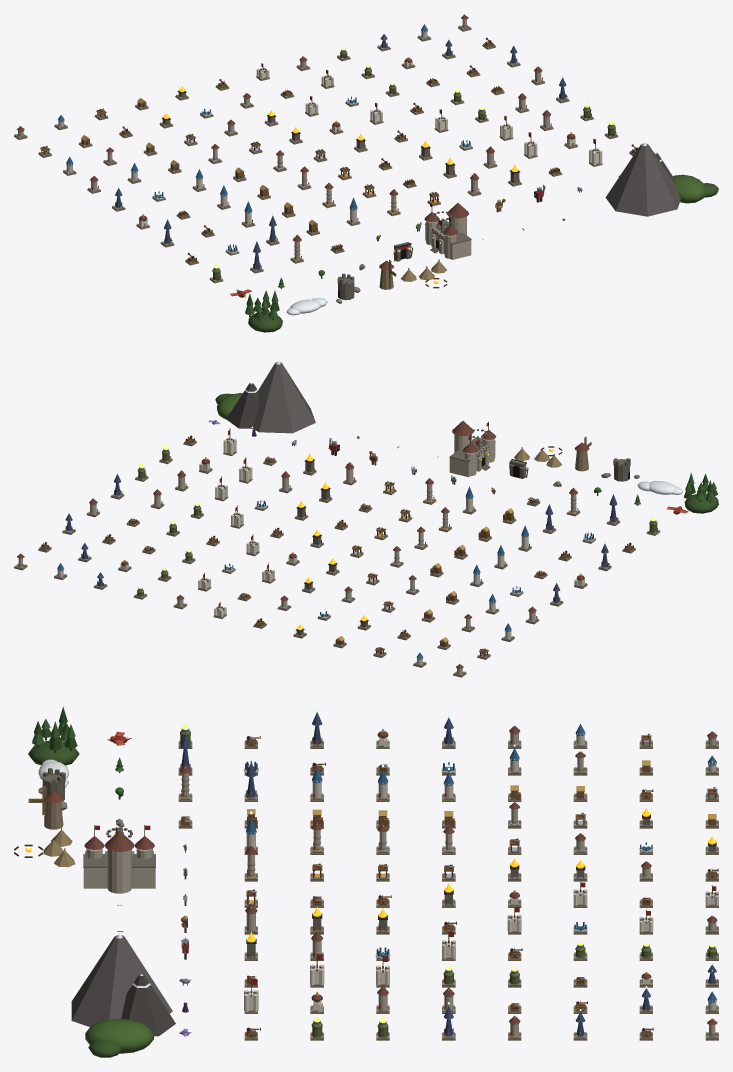
The model's file is rocanegra.glb.
The picture shows the model from 3 angles, top to bottom: view 1: azimuth 30°, elevation 25°; view 2: azimuth 150°, elevation 25°; view 3: azimuth 270°, elevation 25°; orthographic projection. The views are drawn at different scales.
Visible parts, largest first — view 1: Cone.166, Cube.1563, Sphere.226; view 2: Cone.166, Cube.1563, Cone.167; view 3: Cone.166, Cube.1563, Cone.167, Sphere.226, Cone.161, Sphere.228, Cone.186, Cube.1564, Cone.170.
Part boxes in pixels (<box>): Cone.166: <box>605,143,680,216</box>; Cube.1563: <box>425,216,471,259</box>; Sphere.226: <box>673,174,705,203</box>; Cone.166: <box>253,362,315,433</box>; Cube.1563: <box>449,434,495,477</box>; Cone.167: <box>226,383,258,428</box>; Cone.166: <box>71,935,172,1026</box>; Cube.1563: <box>83,848,155,893</box>; Cone.167: <box>121,974,175,1036</box>; Sphere.226: <box>85,1018,153,1053</box>; Cone.161: <box>84,831,154,851</box>; Sphere.228: <box>28,741,79,765</box>; Cone.186: <box>43,830,75,867</box>; Cube.1564: <box>83,827,155,867</box>; Cone.170: <box>34,706,77,750</box>.
Bounding box in the file's own units: 48.26 × 6.6 × 44.97.
